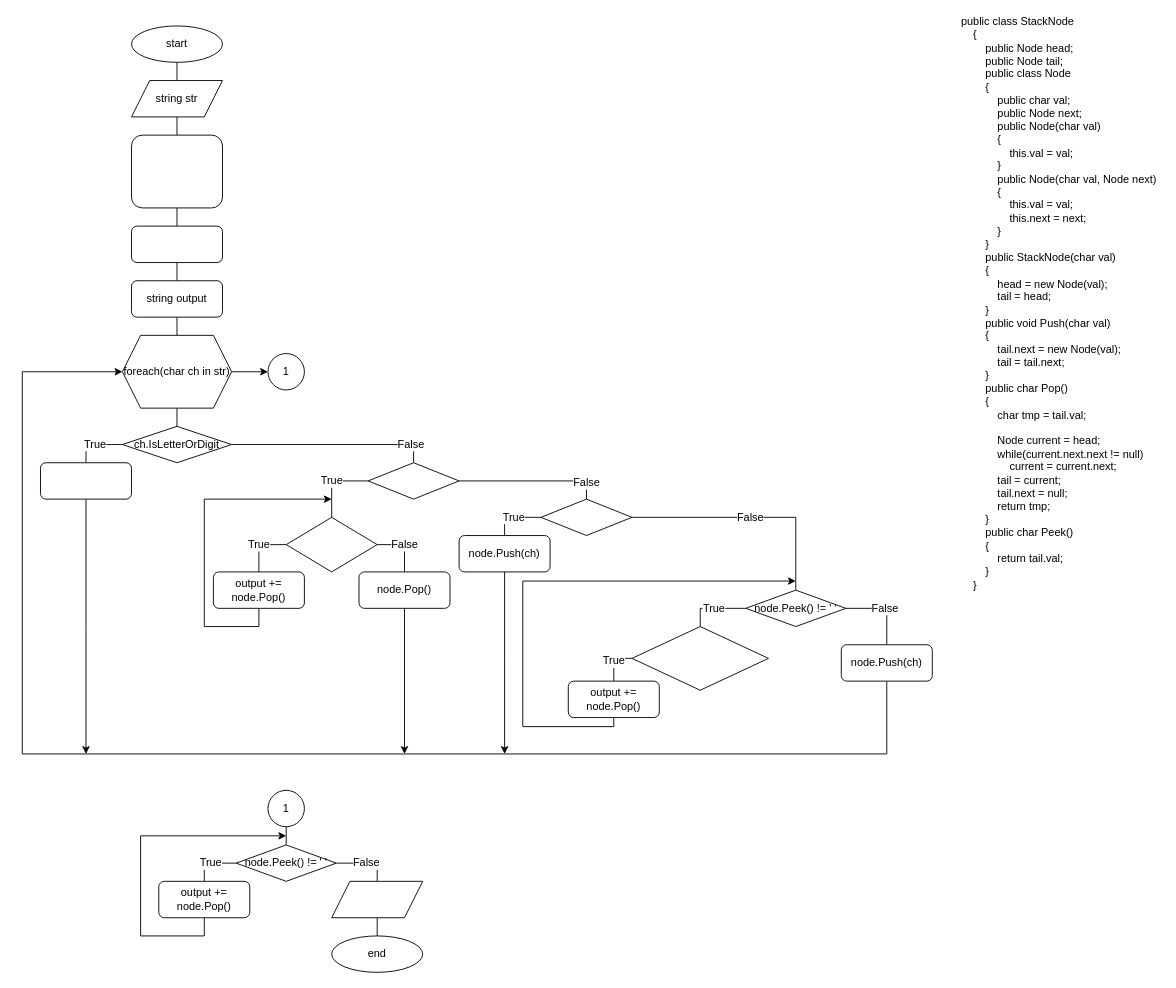
The diagram is 1176 pixels wide and 988 high, and some of its shapes have lost their labels. Here are the shapes that lost their labels. From the top down, the centre of each, then its label:
At (176,171): "Dictionary dict = { {+, 1}, {-, 1}, {/, 2}, {*, 2}, {^, 3}, {(, 0} }".
At (176,244): "Node node = new StackNode(' ')".
At (85,480): "output += ch".
At (413,480): "ch == ')'".
At (586,517): "ch == '('".
At (331,544): "node.Peek() != '('".
At (699,658): "weights[ch] <= weights[node.Peek()]".
At (377,899): "output".
